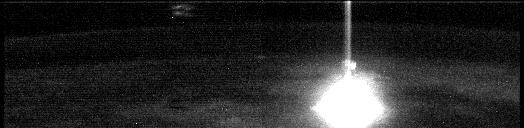positive: (338, 59, 359, 78)
